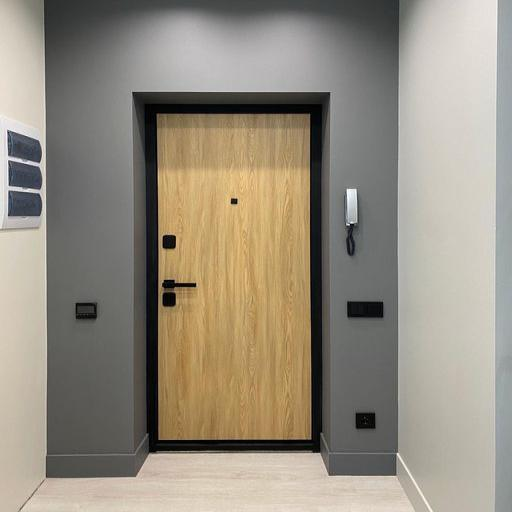child: (158, 114, 308, 442)
